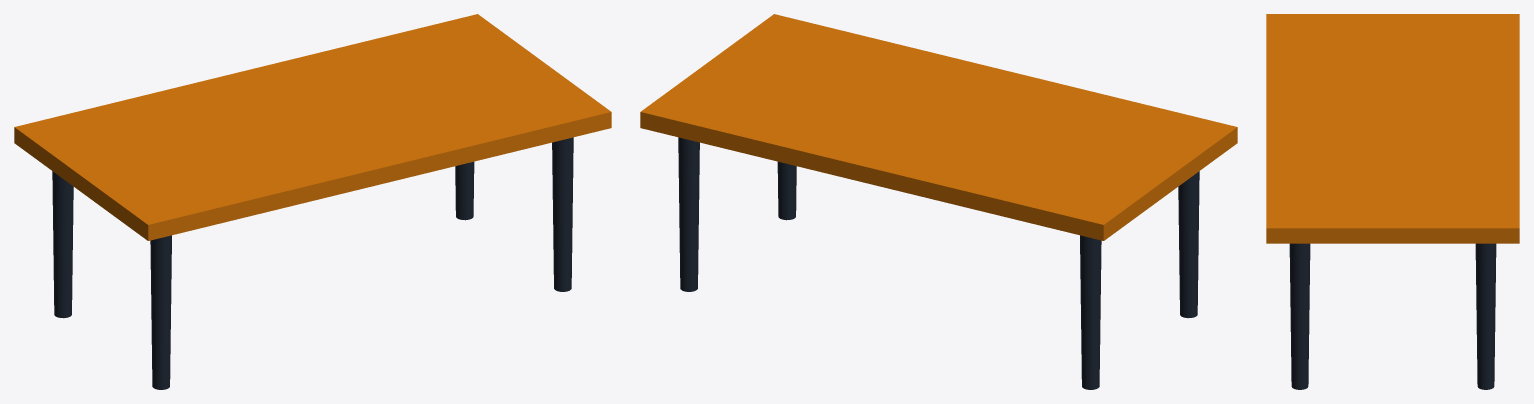
The model's file is coffee_table.glb.
3 views of the same model, side by side, from view 1: azimuth 30°, elevation 25°; view 2: azimuth 150°, elevation 25°; view 3: azimuth 270°, elevation 25° (orthographic). The views are drawn at different scales.
Visible parts, largest first — view 1: MinimalistCoffeeTable; view 2: MinimalistCoffeeTable; view 3: MinimalistCoffeeTable.
Part boxes in pixels (x1,y1,x2,y2): MinimalistCoffeeTable: (14, 14, 611, 389); MinimalistCoffeeTable: (640, 14, 1237, 389); MinimalistCoffeeTable: (1266, 14, 1519, 389).
Size of the model in its own units: 1.2 by 0.45 by 0.6.
